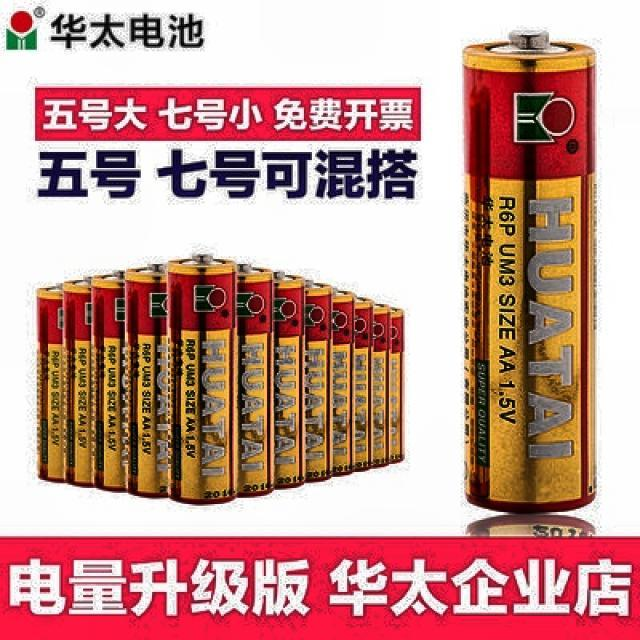battery: (39, 255, 404, 503), (464, 34, 595, 511)
